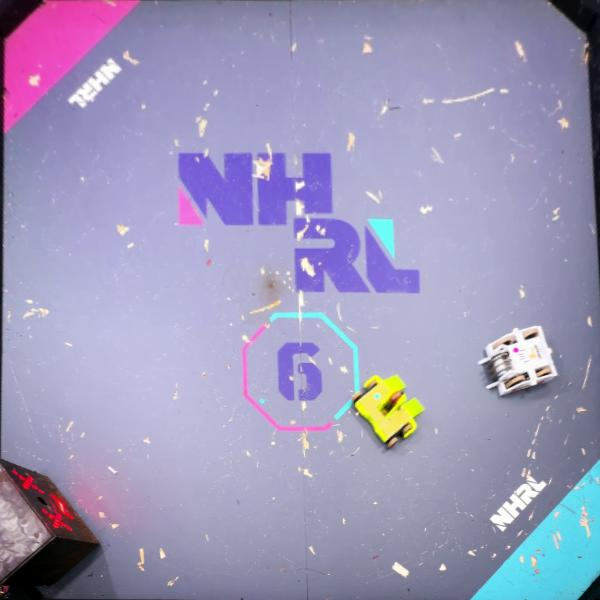housebot: (0, 458, 101, 591)
robot: (479, 324, 559, 398), (354, 372, 424, 450)
